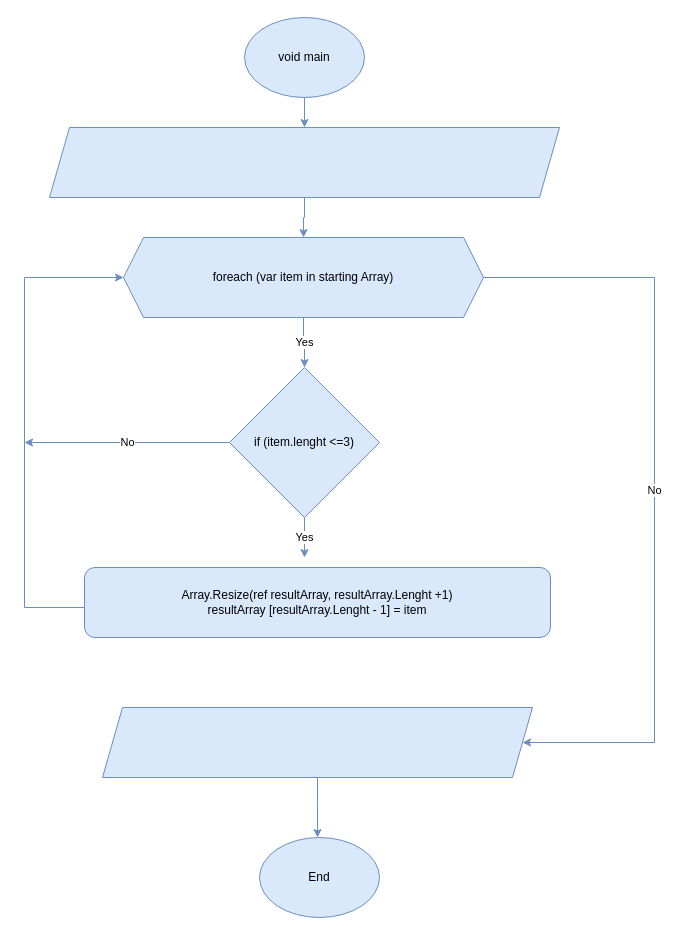
This 680x935 diagram has some shape labels left out. Each missing label, with the centre of its shape:
Console.WriteLine($[{String.Join("; "; resultArray)}]"): (317,742)
string[]stringArray = new string[] {текст} string[] resultArray = new string [0]: (304,162)
